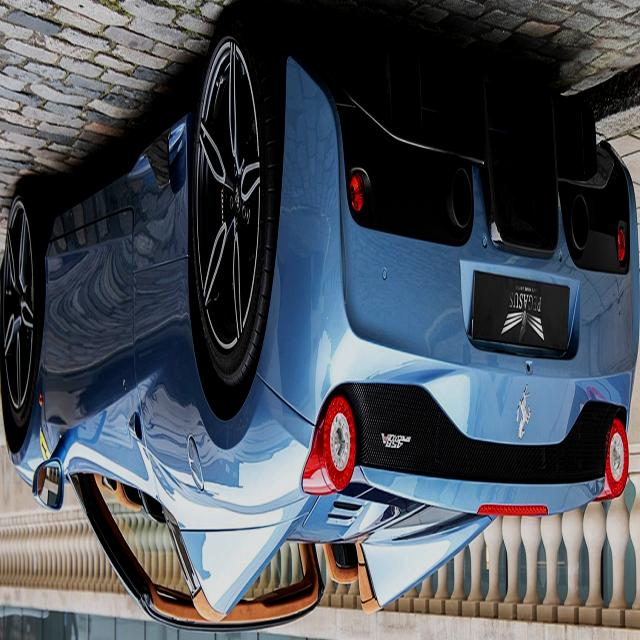blue: (0, 0, 638, 591)
